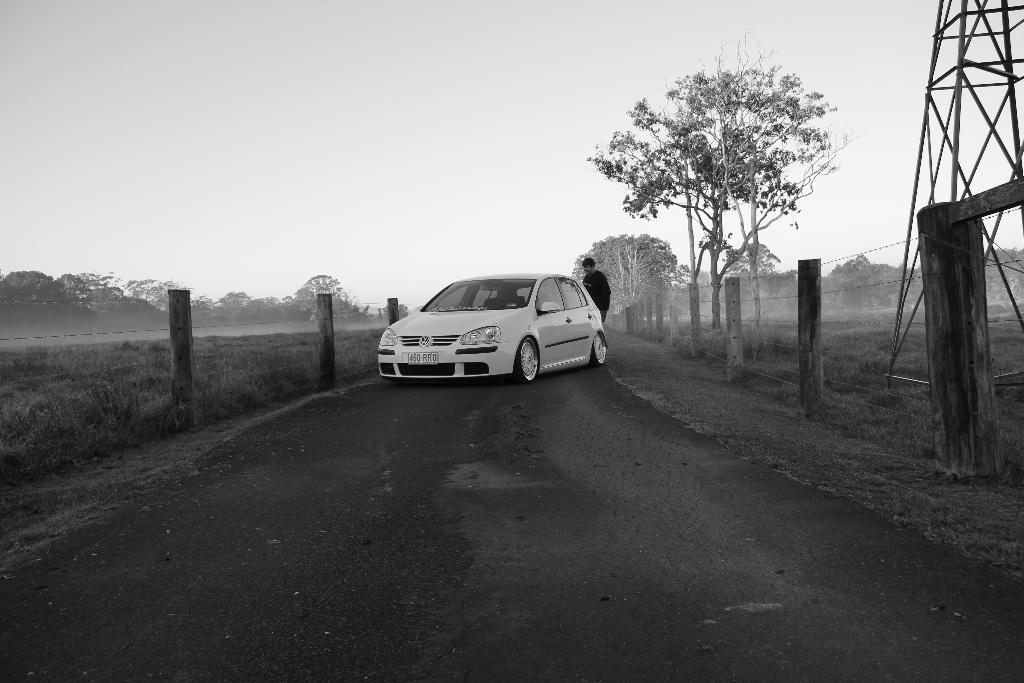Car: (377, 272, 607, 379)
